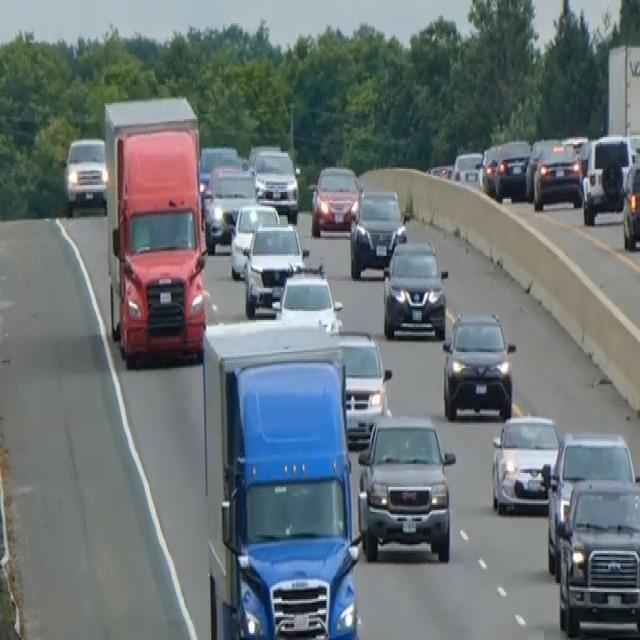car: (540, 428, 637, 576), (555, 476, 639, 638), (441, 309, 516, 422), (331, 326, 392, 446), (490, 411, 561, 514), (381, 238, 448, 340), (243, 220, 306, 316), (349, 185, 407, 279), (271, 262, 343, 332), (580, 132, 632, 224), (203, 164, 256, 252), (229, 199, 280, 279), (529, 137, 582, 210), (310, 162, 360, 236), (251, 146, 299, 218), (63, 135, 107, 213), (493, 137, 531, 203), (198, 142, 239, 190), (621, 156, 639, 249), (451, 150, 483, 190), (478, 142, 500, 196)
jeep: (356, 411, 456, 564)
lorry: (201, 316, 363, 638), (102, 92, 207, 368)
